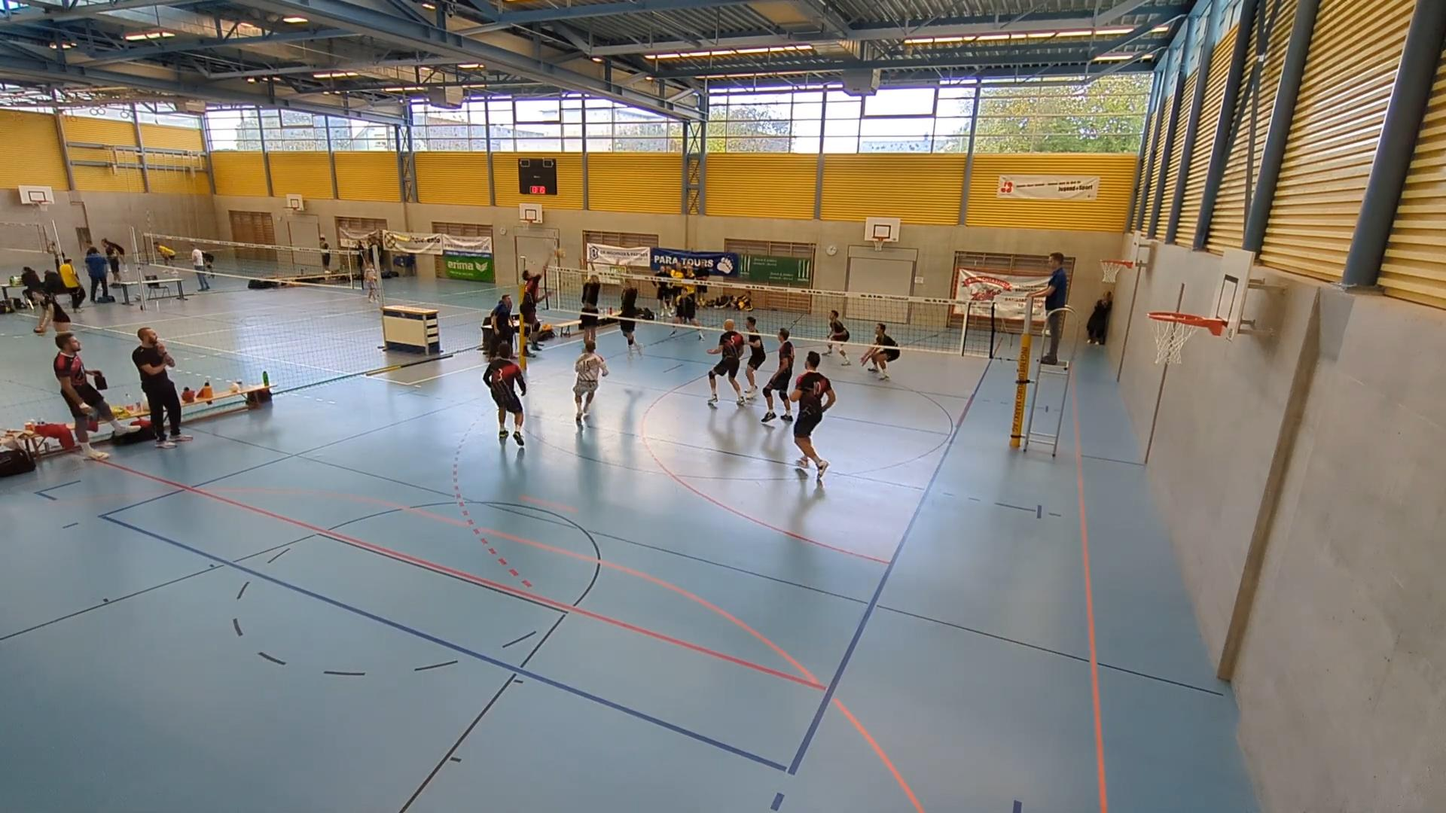Attack: (512, 253, 553, 352)
Block: (567, 253, 604, 366), (614, 259, 647, 349)
Player: (789, 351, 836, 480), (483, 346, 526, 446), (706, 320, 746, 405), (762, 328, 794, 422), (573, 340, 608, 423), (861, 323, 899, 379), (670, 271, 700, 340), (745, 315, 766, 398), (823, 310, 850, 365)
ball: (155, 244, 177, 256)
